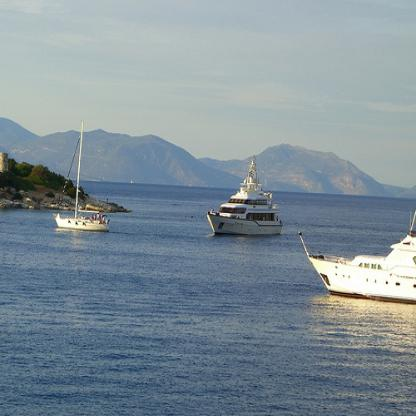boat: (296, 202, 416, 309), (49, 120, 117, 235), (204, 148, 289, 240)
